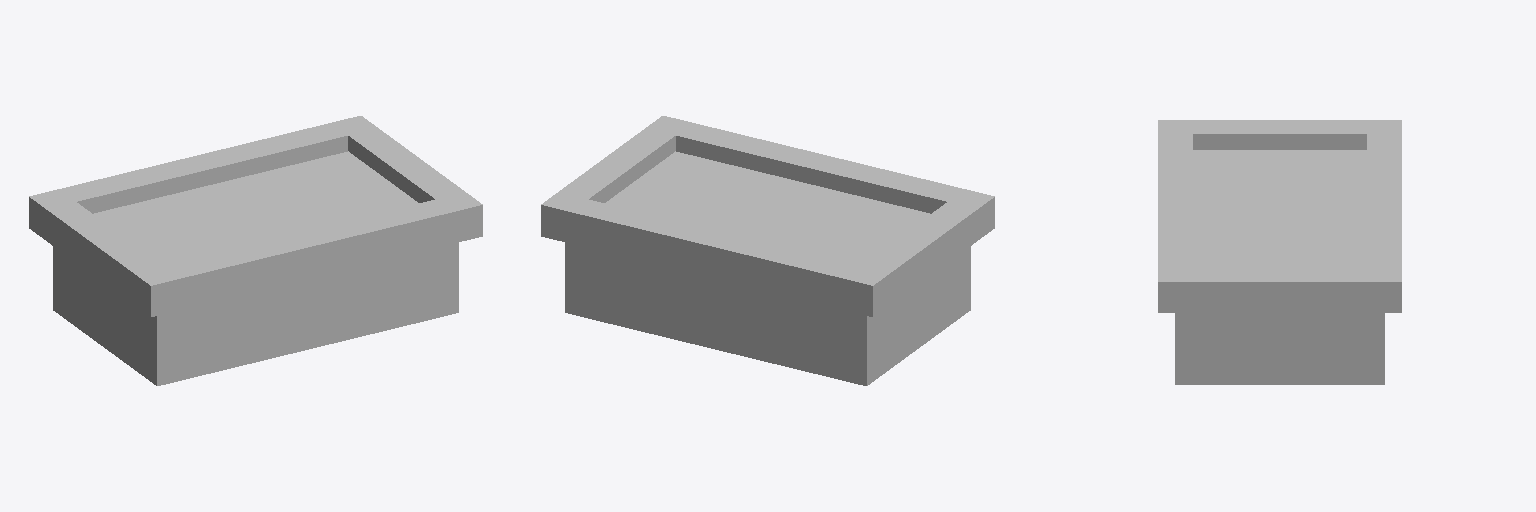
The model's file is choco.obj.
3 renders of one model, left to right at view 1: azimuth 30°, elevation 25°; view 2: azimuth 150°, elevation 25°; view 3: azimuth 270°, elevation 25°, orthographic.
Visible parts, largest first — view 1: object 1; view 2: object 1; view 3: object 1.
Boxes of the visible parts, x1=… form: object 1: x1=29, y1=116, x2=482, y2=385; object 1: x1=541, y1=116, x2=994, y2=385; object 1: x1=1158, y1=120, x2=1401, y2=384.
Bounding box in the file's own units: 2.2 × 0.7 × 1.4.